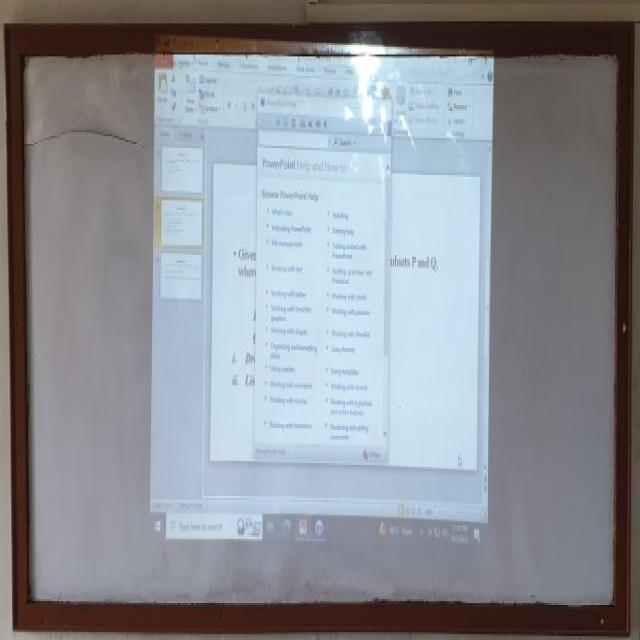Slide: (150, 37, 495, 553)
White-board: (15, 40, 627, 623)
